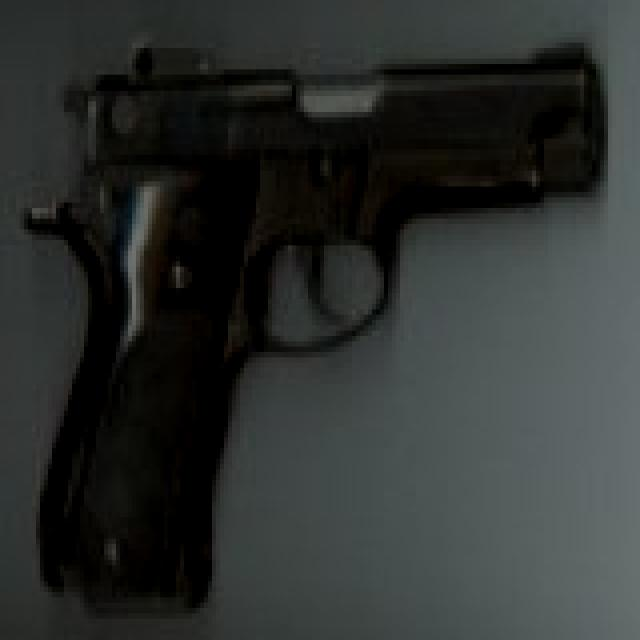pistol: (24, 27, 604, 613)
